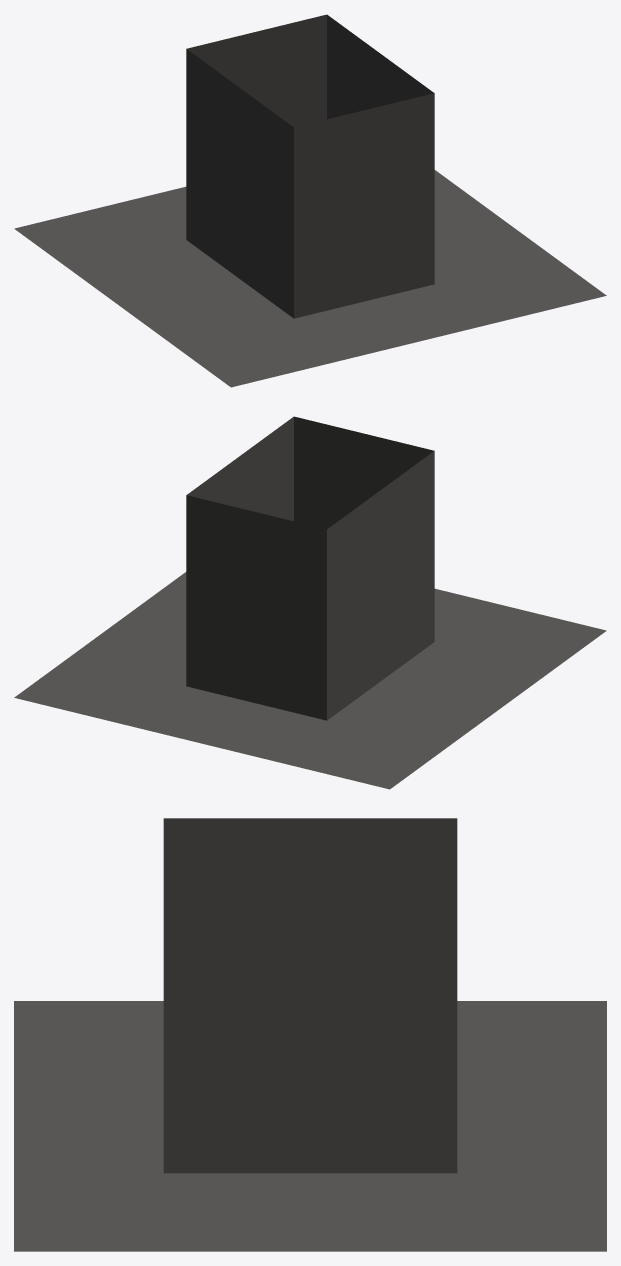
Rendered from AI_Env_Sewer_Roof_High_Hole.fbx.
3 views of the same model, one above another, from view 1: azimuth 30°, elevation 25°; view 2: azimuth 150°, elevation 25°; view 3: azimuth 270°, elevation 25° (orthographic). The views are drawn at different scales.
Parts seen in each view (by area): view 1: AI_Env_Sewer_Roof_High_Hole; view 2: AI_Env_Sewer_Roof_High_Hole; view 3: AI_Env_Sewer_Roof_High_Hole.
Boxes of the visible parts, x1,y1,x2,y2 form: AI_Env_Sewer_Roof_High_Hole: (14, 14, 606, 387); AI_Env_Sewer_Roof_High_Hole: (14, 416, 606, 789); AI_Env_Sewer_Roof_High_Hole: (14, 818, 606, 1251).
Size of the model in its own units: 5 by 2.43 by 5.
